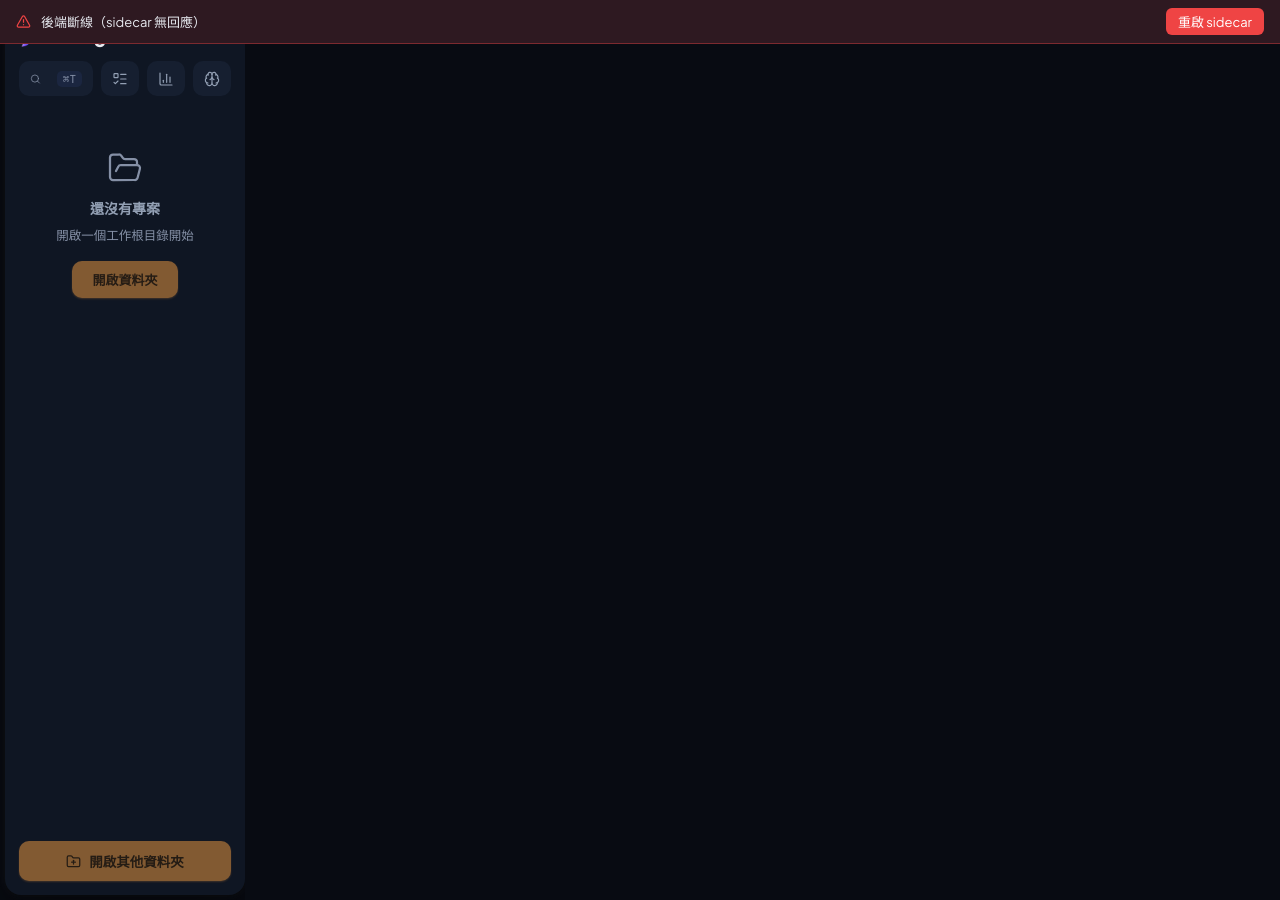
Test: App 殼層文字走 i18n › 中文介面：重啟中與 Cmd+R 提示的文字與原本相同
Click the button "重啟 sidecar": (1215, 22) [1166,8,1264,35]
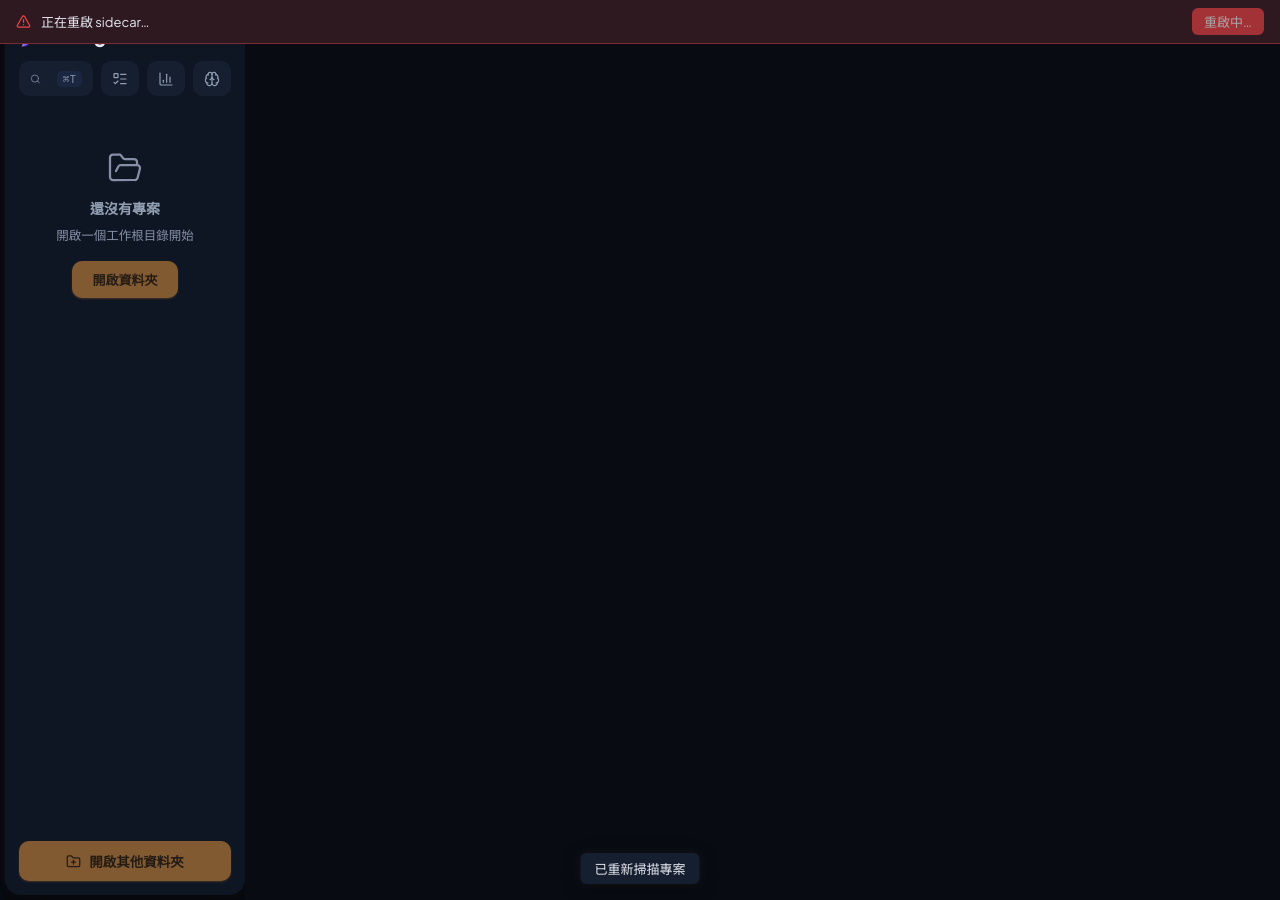
Result: the text "正在重啟 sidecar…" is shown at [41,14,149,30]
Result: the button "重啟中…" is shown at [1192,8,1264,35]
Result: the text "已重新掃描專案" is shown at [580,853,700,884]
